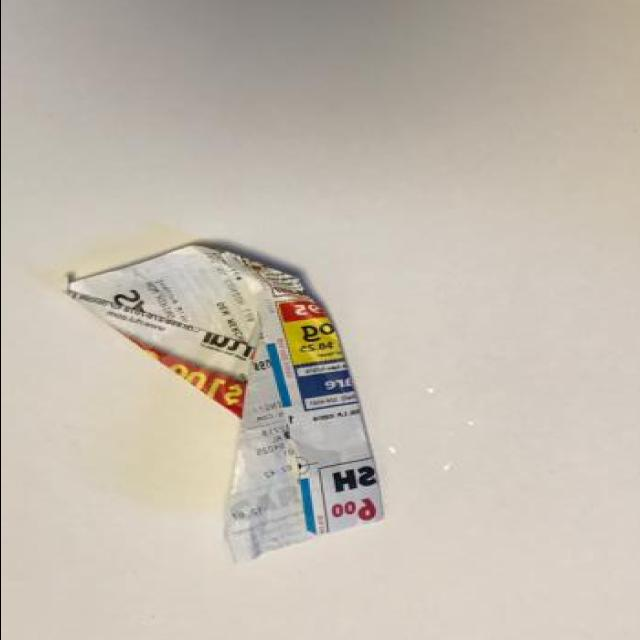kertas: (63, 243, 382, 566)
